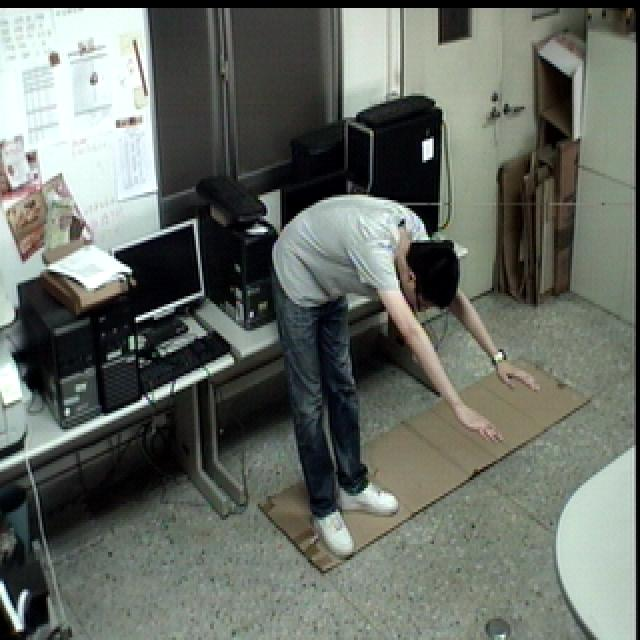bend: (256, 187, 542, 558)
